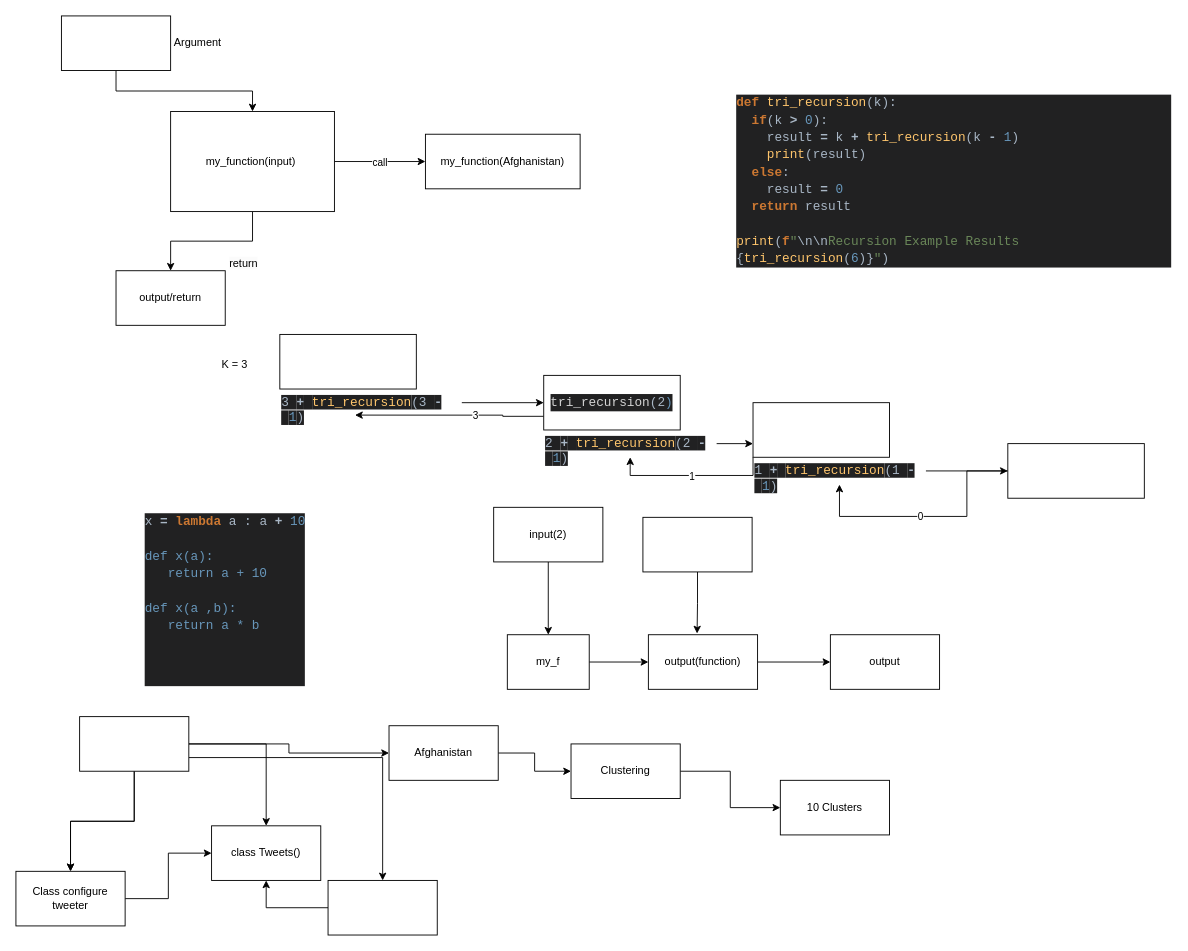
Some shapes in this 1188 by 951 pixel diagram are drawn without their labels. The shapes that lost their labels are listed below. From the top down, each one's centre as x and y in pixels, then its label:
pixel 116 43: input=Norway
pixel 347 361: tri_recursion ( 3)
pixel 821 429: tri_recursion (1 )
pixel 1075 470: tri_recursion (0 )
pixel 697 544: input(11)
pixel 134 743: tweets
pixel 382 907: Class Text Cleaning
